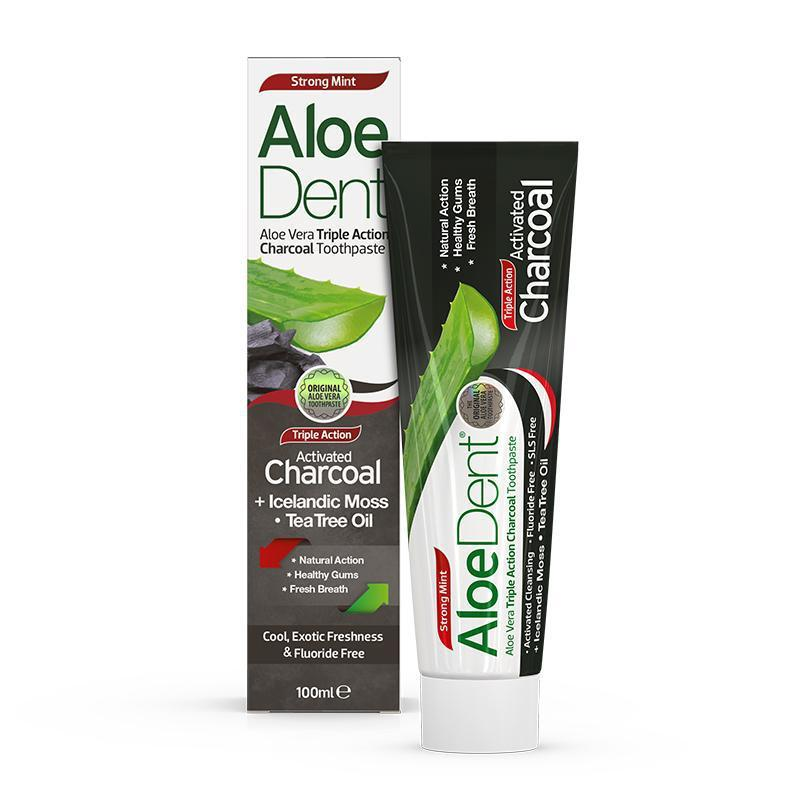toothpaste: (377, 128, 579, 753), (240, 48, 399, 710)
